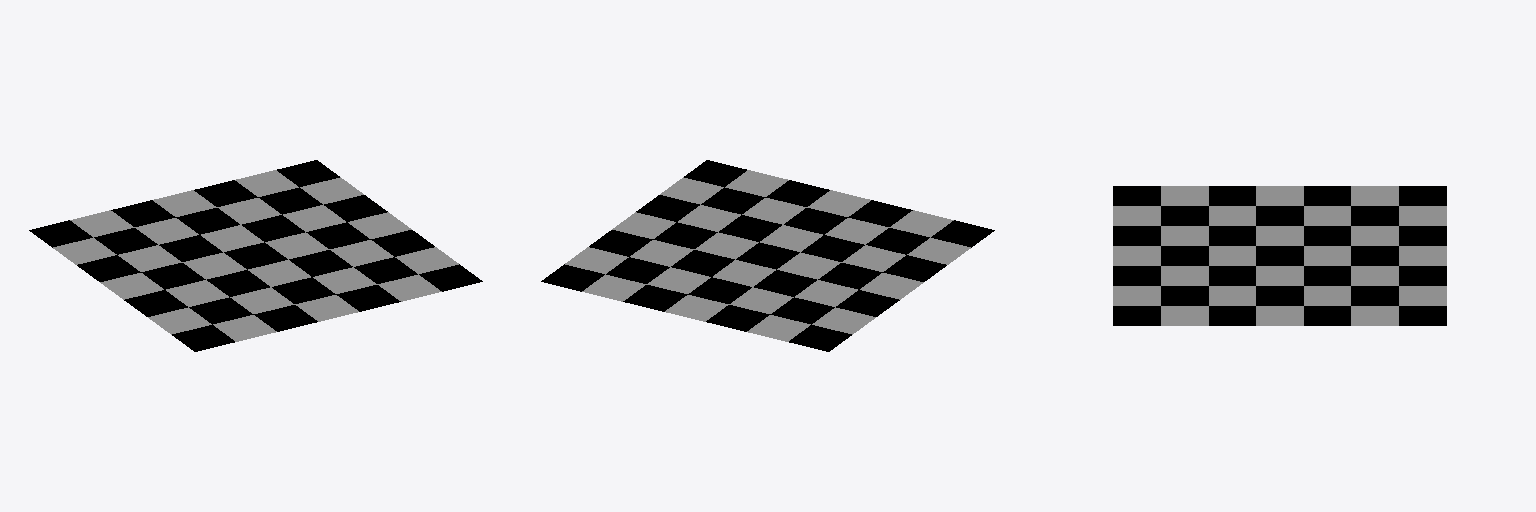
Rendered from goal.obj.
3 views of the same model, side by side, from view 1: azimuth 30°, elevation 25°; view 2: azimuth 150°, elevation 25°; view 3: azimuth 270°, elevation 25° (orthographic).
Visible parts, largest first — view 1: Plane_Plane.001; view 2: Plane_Plane.001; view 3: Plane_Plane.001.
Part boxes in pixels (x1,y1,x2,y2): Plane_Plane.001: (29, 160, 482, 351); Plane_Plane.001: (541, 160, 994, 351); Plane_Plane.001: (1113, 186, 1446, 325).
Bounding box in the file's own units: 2 × 0 × 2.